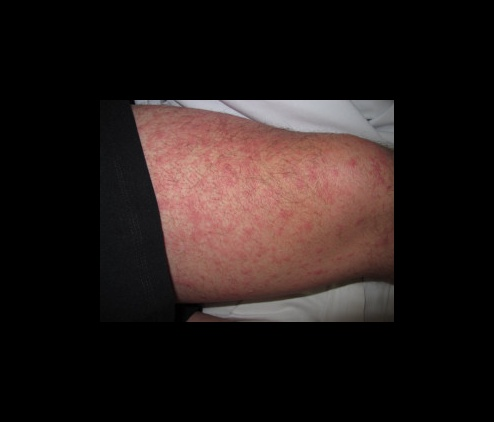SJS-TEN: (127, 83, 407, 314)
